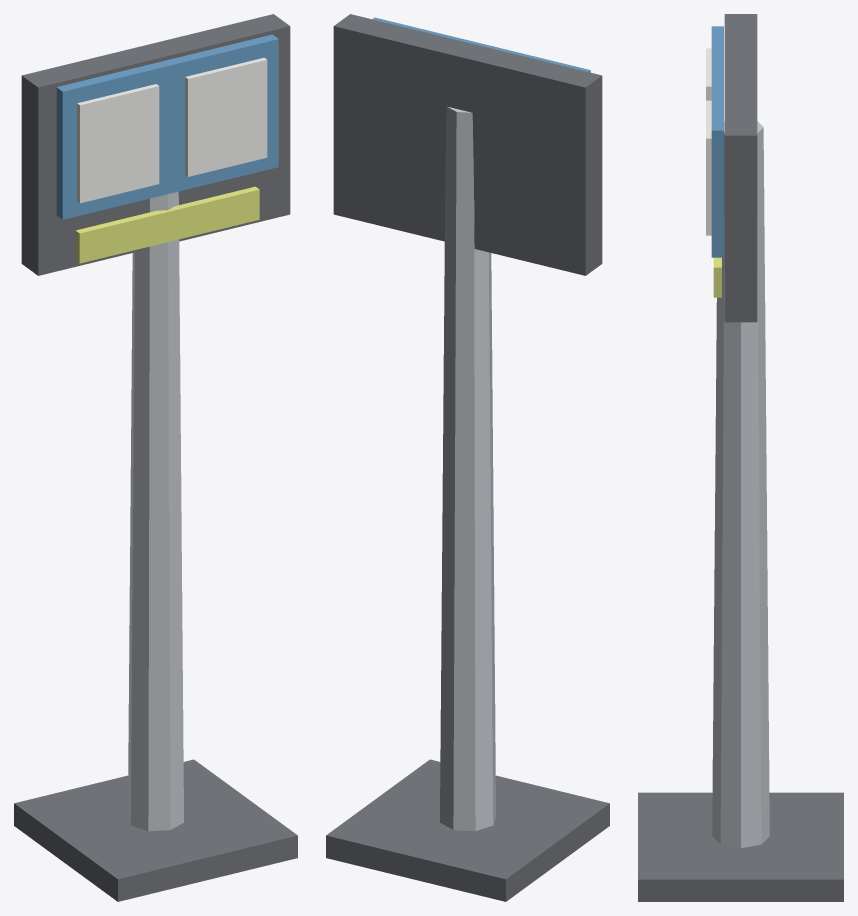
The model's file is tennis-club-and-courts-service-speed-board-4e7f0cd9__33623.glb.
The picture shows the model from 3 angles, left to right: view 1: azimuth 30°, elevation 25°; view 2: azimuth 150°, elevation 25°; view 3: azimuth 270°, elevation 25°; orthographic projection.
Visible parts, largest first — view 1: service-speed-board; view 2: service-speed-board; view 3: service-speed-board.
Boxes of the visible parts, <box> form: service-speed-board: <box>14,14,297,901</box>; service-speed-board: <box>326,14,609,901</box>; service-speed-board: <box>638,14,843,901</box>.
Size of the model in its own units: 0.6999 by 2.1 by 0.4999.
